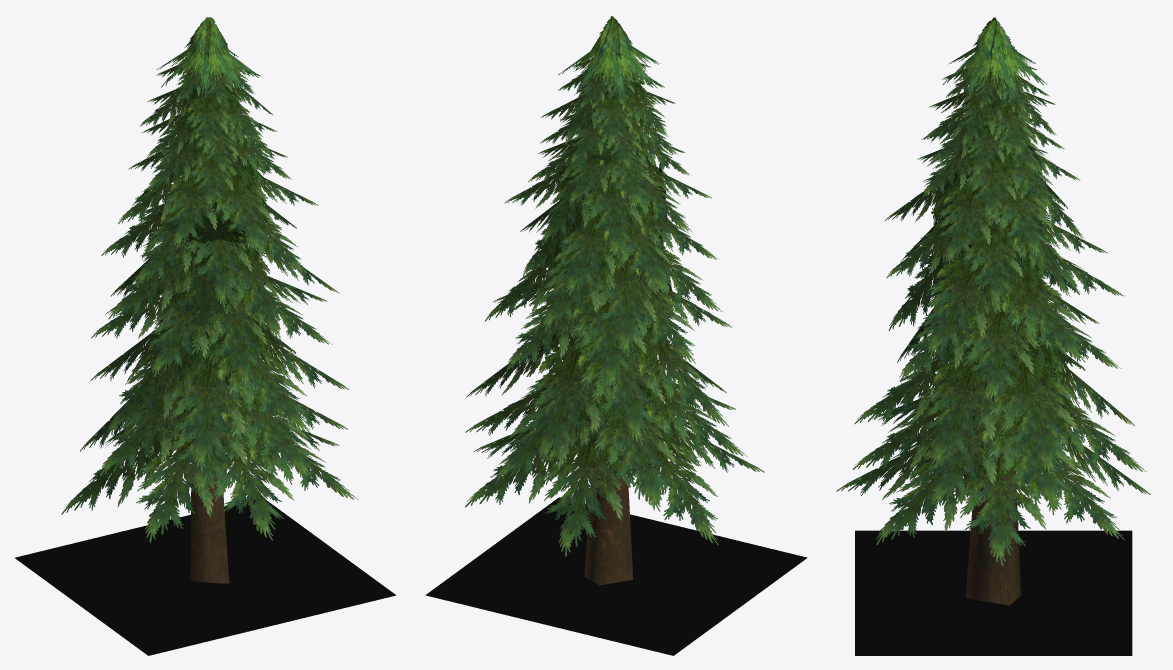
Rendered from jj_tyshu01.FBX.
3 views of the same model, side by side, from view 1: azimuth 30°, elevation 25°; view 2: azimuth 150°, elevation 25°; view 3: azimuth 270°, elevation 25° (orthographic). The views are drawn at different scales.
Parts seen in each view (by area): view 1: jj_tyshu01, shadow; view 2: jj_tyshu01, shadow; view 3: jj_tyshu01, shadow.
Boxes of the visible parts, x1,y1,x2,y2 form: jj_tyshu01: (61, 17, 358, 583); shadow: (14, 500, 396, 655); jj_tyshu01: (465, 16, 764, 585); shadow: (425, 497, 807, 655); jj_tyshu01: (836, 17, 1151, 605); shadow: (855, 530, 1132, 655).
Size of the model in its own units: 3.32 by 6.61 by 3.32.
2 materials, 2 textured.
